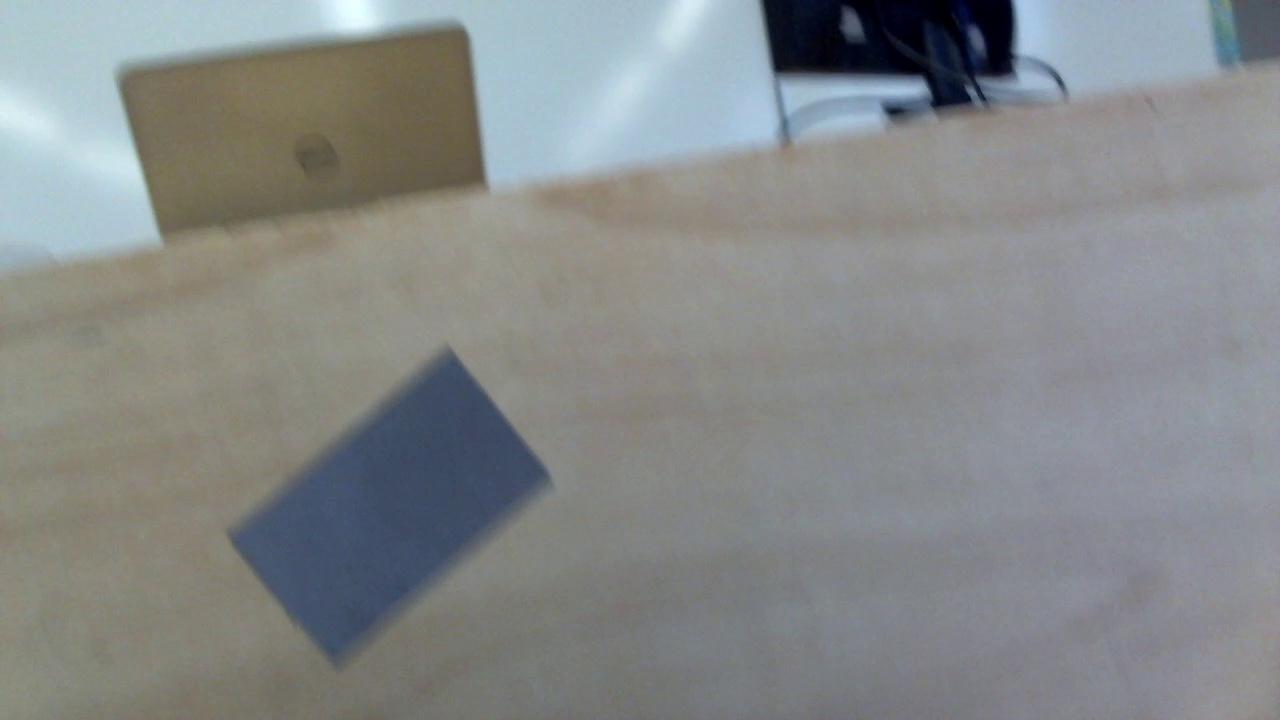Tape: (227, 346, 555, 670)
